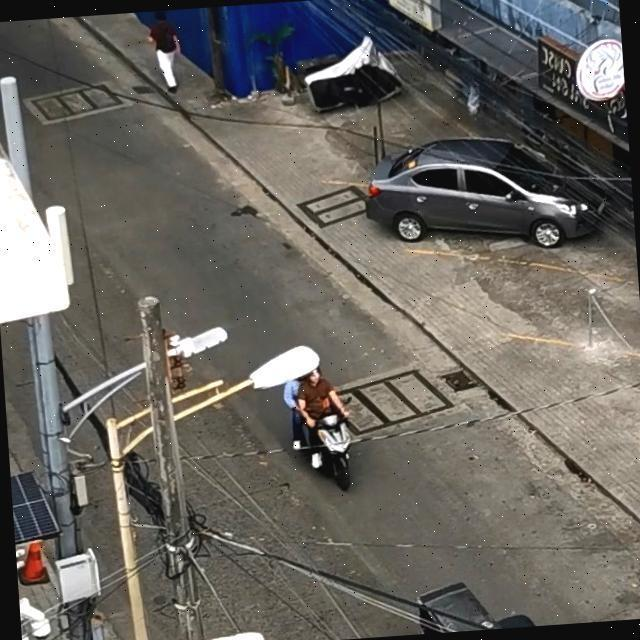Motorcycle: (267, 332, 385, 492)
Tricycle: (412, 572, 570, 634)
